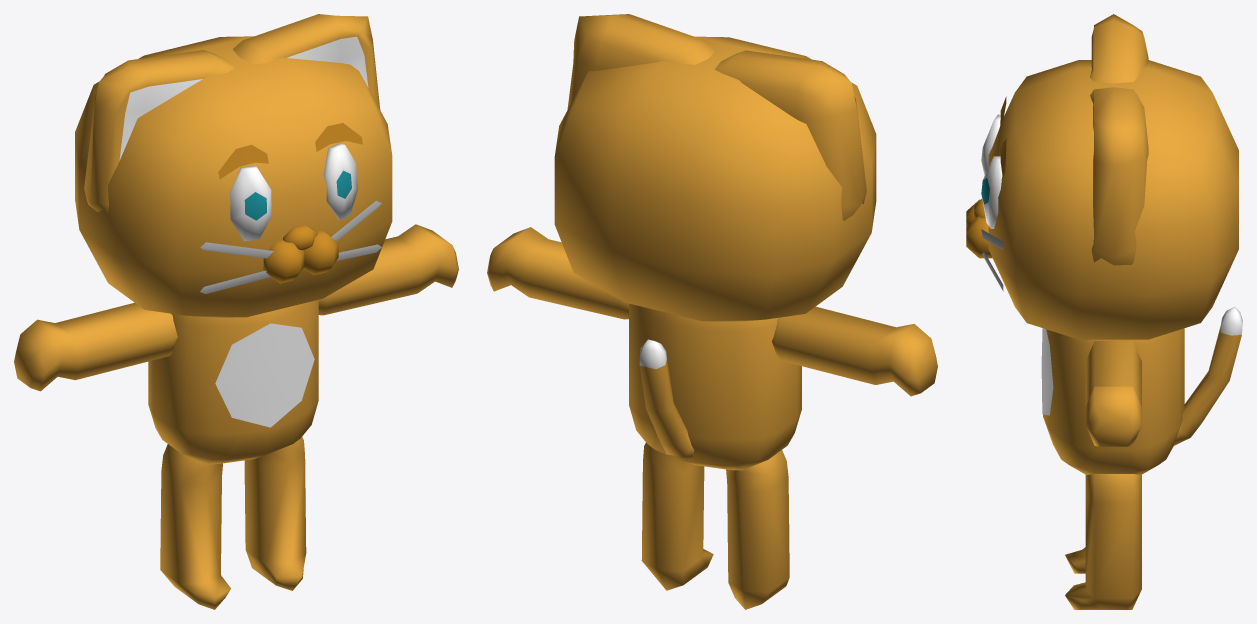
The model's file is DebugCat2.fbx.
The picture shows the model from 3 angles, left to right: view 1: azimuth 30°, elevation 25°; view 2: azimuth 150°, elevation 25°; view 3: azimuth 270°, elevation 25°; orthographic projection. The views are drawn at different scales.
Visible parts, largest first — view 1: Cube; view 2: Cube; view 3: Cube.
Boxes of the visible parts, x1,y1,x2,y2 form: Cube: [14, 14, 458, 609]; Cube: [487, 14, 937, 609]; Cube: [966, 14, 1242, 609].
Size of the model in its own units: 377 by 461 by 221.
